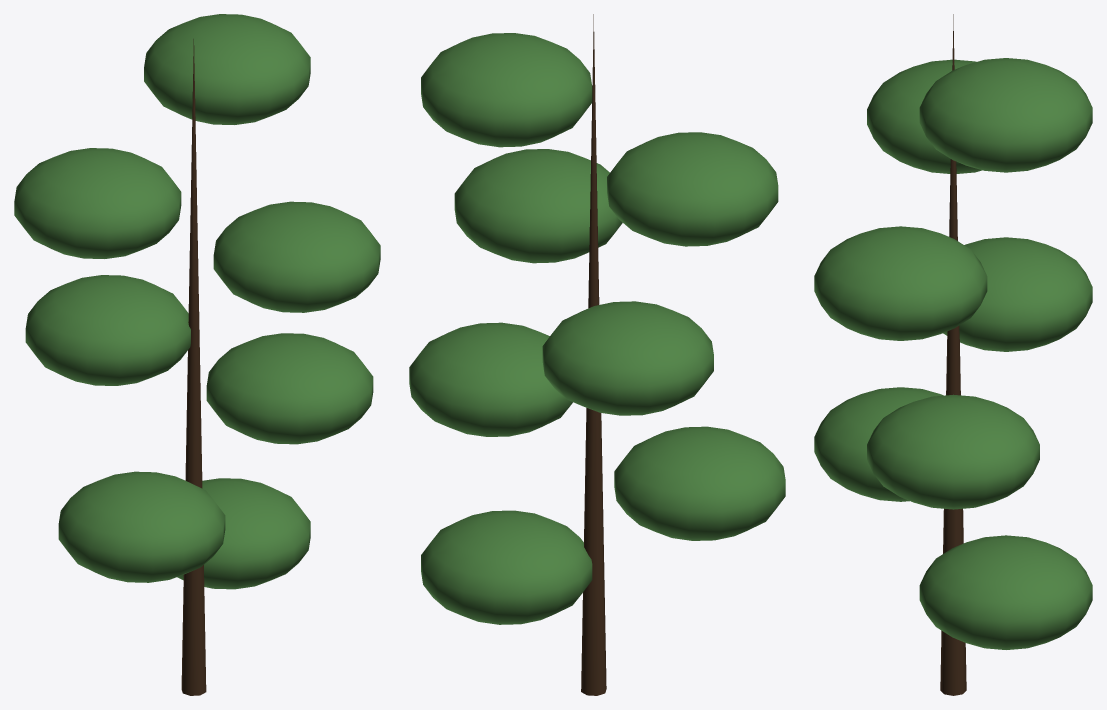
File: vine.gltf
The picture shows the model from 3 angles, left to right: view 1: azimuth 30°, elevation 25°; view 2: azimuth 150°, elevation 25°; view 3: azimuth 270°, elevation 25°; orthographic projection. The views are drawn at different scales.
Visible parts, largest first — view 1: Leaf3, Leaf5, Leaf2, Leaf6, Leaf4, Leaf7, Leaf1, Stem; view 2: Leaf4, Leaf6, Leaf2, Leaf7, Leaf1, Leaf5, Leaf3, Stem; view 3: Leaf1, Leaf7, Leaf5, Leaf3, Leaf4, Leaf2, Leaf6, Stem.
Part boxes in pixels (bbox=[...]): Leaf3: bbox=[206, 333, 373, 444]; Leaf5: bbox=[213, 201, 380, 312]; Leaf2: bbox=[58, 471, 225, 582]; Leaf6: bbox=[14, 148, 181, 258]; Leaf4: bbox=[25, 275, 190, 385]; Leaf7: bbox=[144, 14, 310, 124]; Leaf1: bbox=[177, 478, 310, 589]; Stem: bbox=[181, 39, 206, 695]; Leaf4: bbox=[542, 301, 713, 415]; Leaf6: bbox=[607, 132, 778, 246]; Leaf2: bbox=[614, 426, 785, 540]; Leaf7: bbox=[421, 33, 592, 147]; Leaf1: bbox=[421, 510, 592, 624]; Leaf5: bbox=[454, 149, 622, 263]; Leaf3: bbox=[409, 322, 572, 436]; Stem: bbox=[581, 14, 606, 695]; Leaf1: bbox=[919, 535, 1092, 649]; Leaf7: bbox=[919, 58, 1092, 172]; Leaf5: bbox=[814, 226, 987, 340]; Leaf3: bbox=[867, 394, 1039, 509]; Leaf4: bbox=[943, 237, 1092, 351]; Leaf2: bbox=[814, 387, 943, 501]; Leaf6: bbox=[867, 59, 981, 173]; Stem: bbox=[940, 14, 966, 695].
Size of the model in its own units: 0.9139 by 1.7 by 0.6339.
